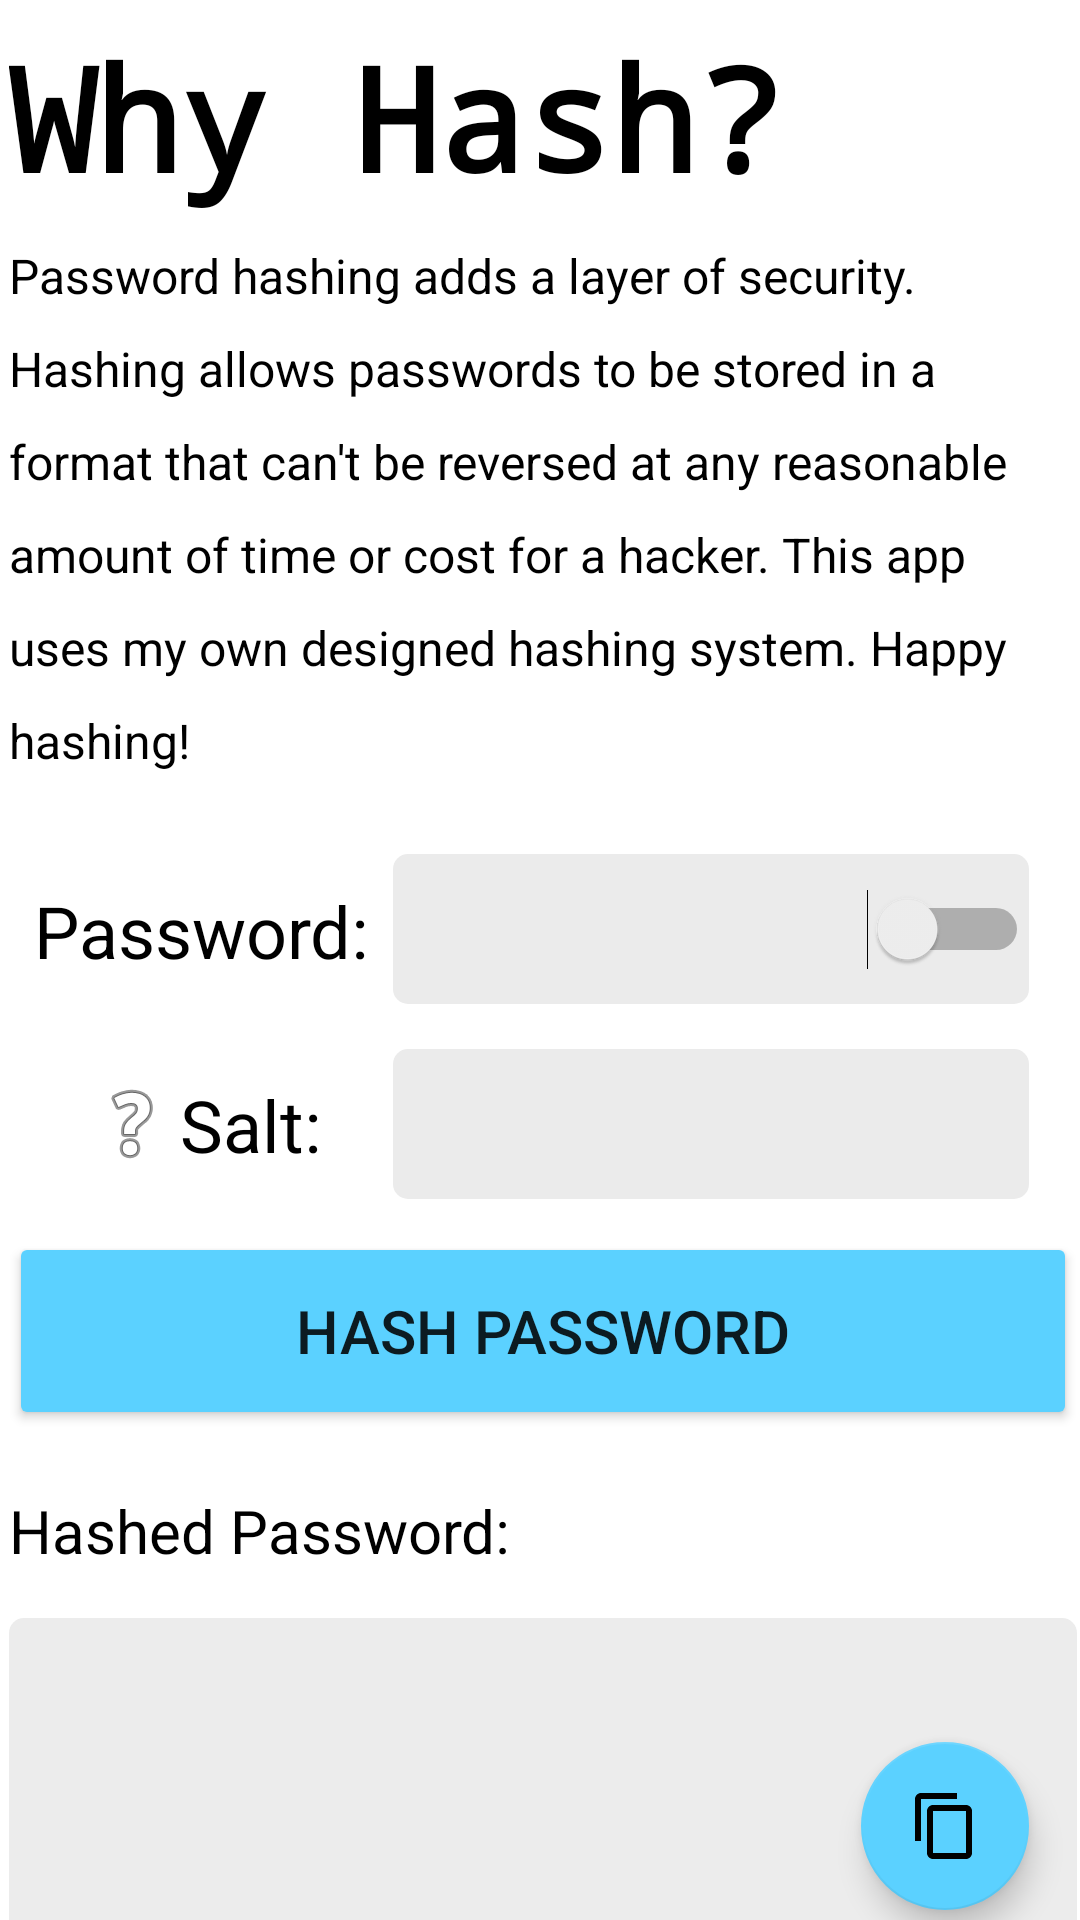

Icon click points for this 1080px x 1920px phone screenshot, format (x,y):
help: (132,1124)
